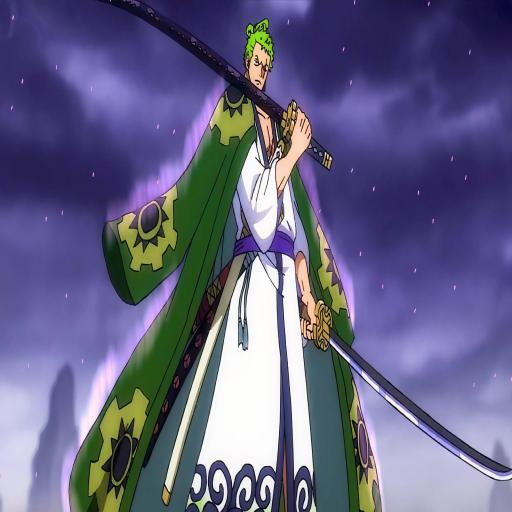Zoro: (100, 0, 364, 512)
